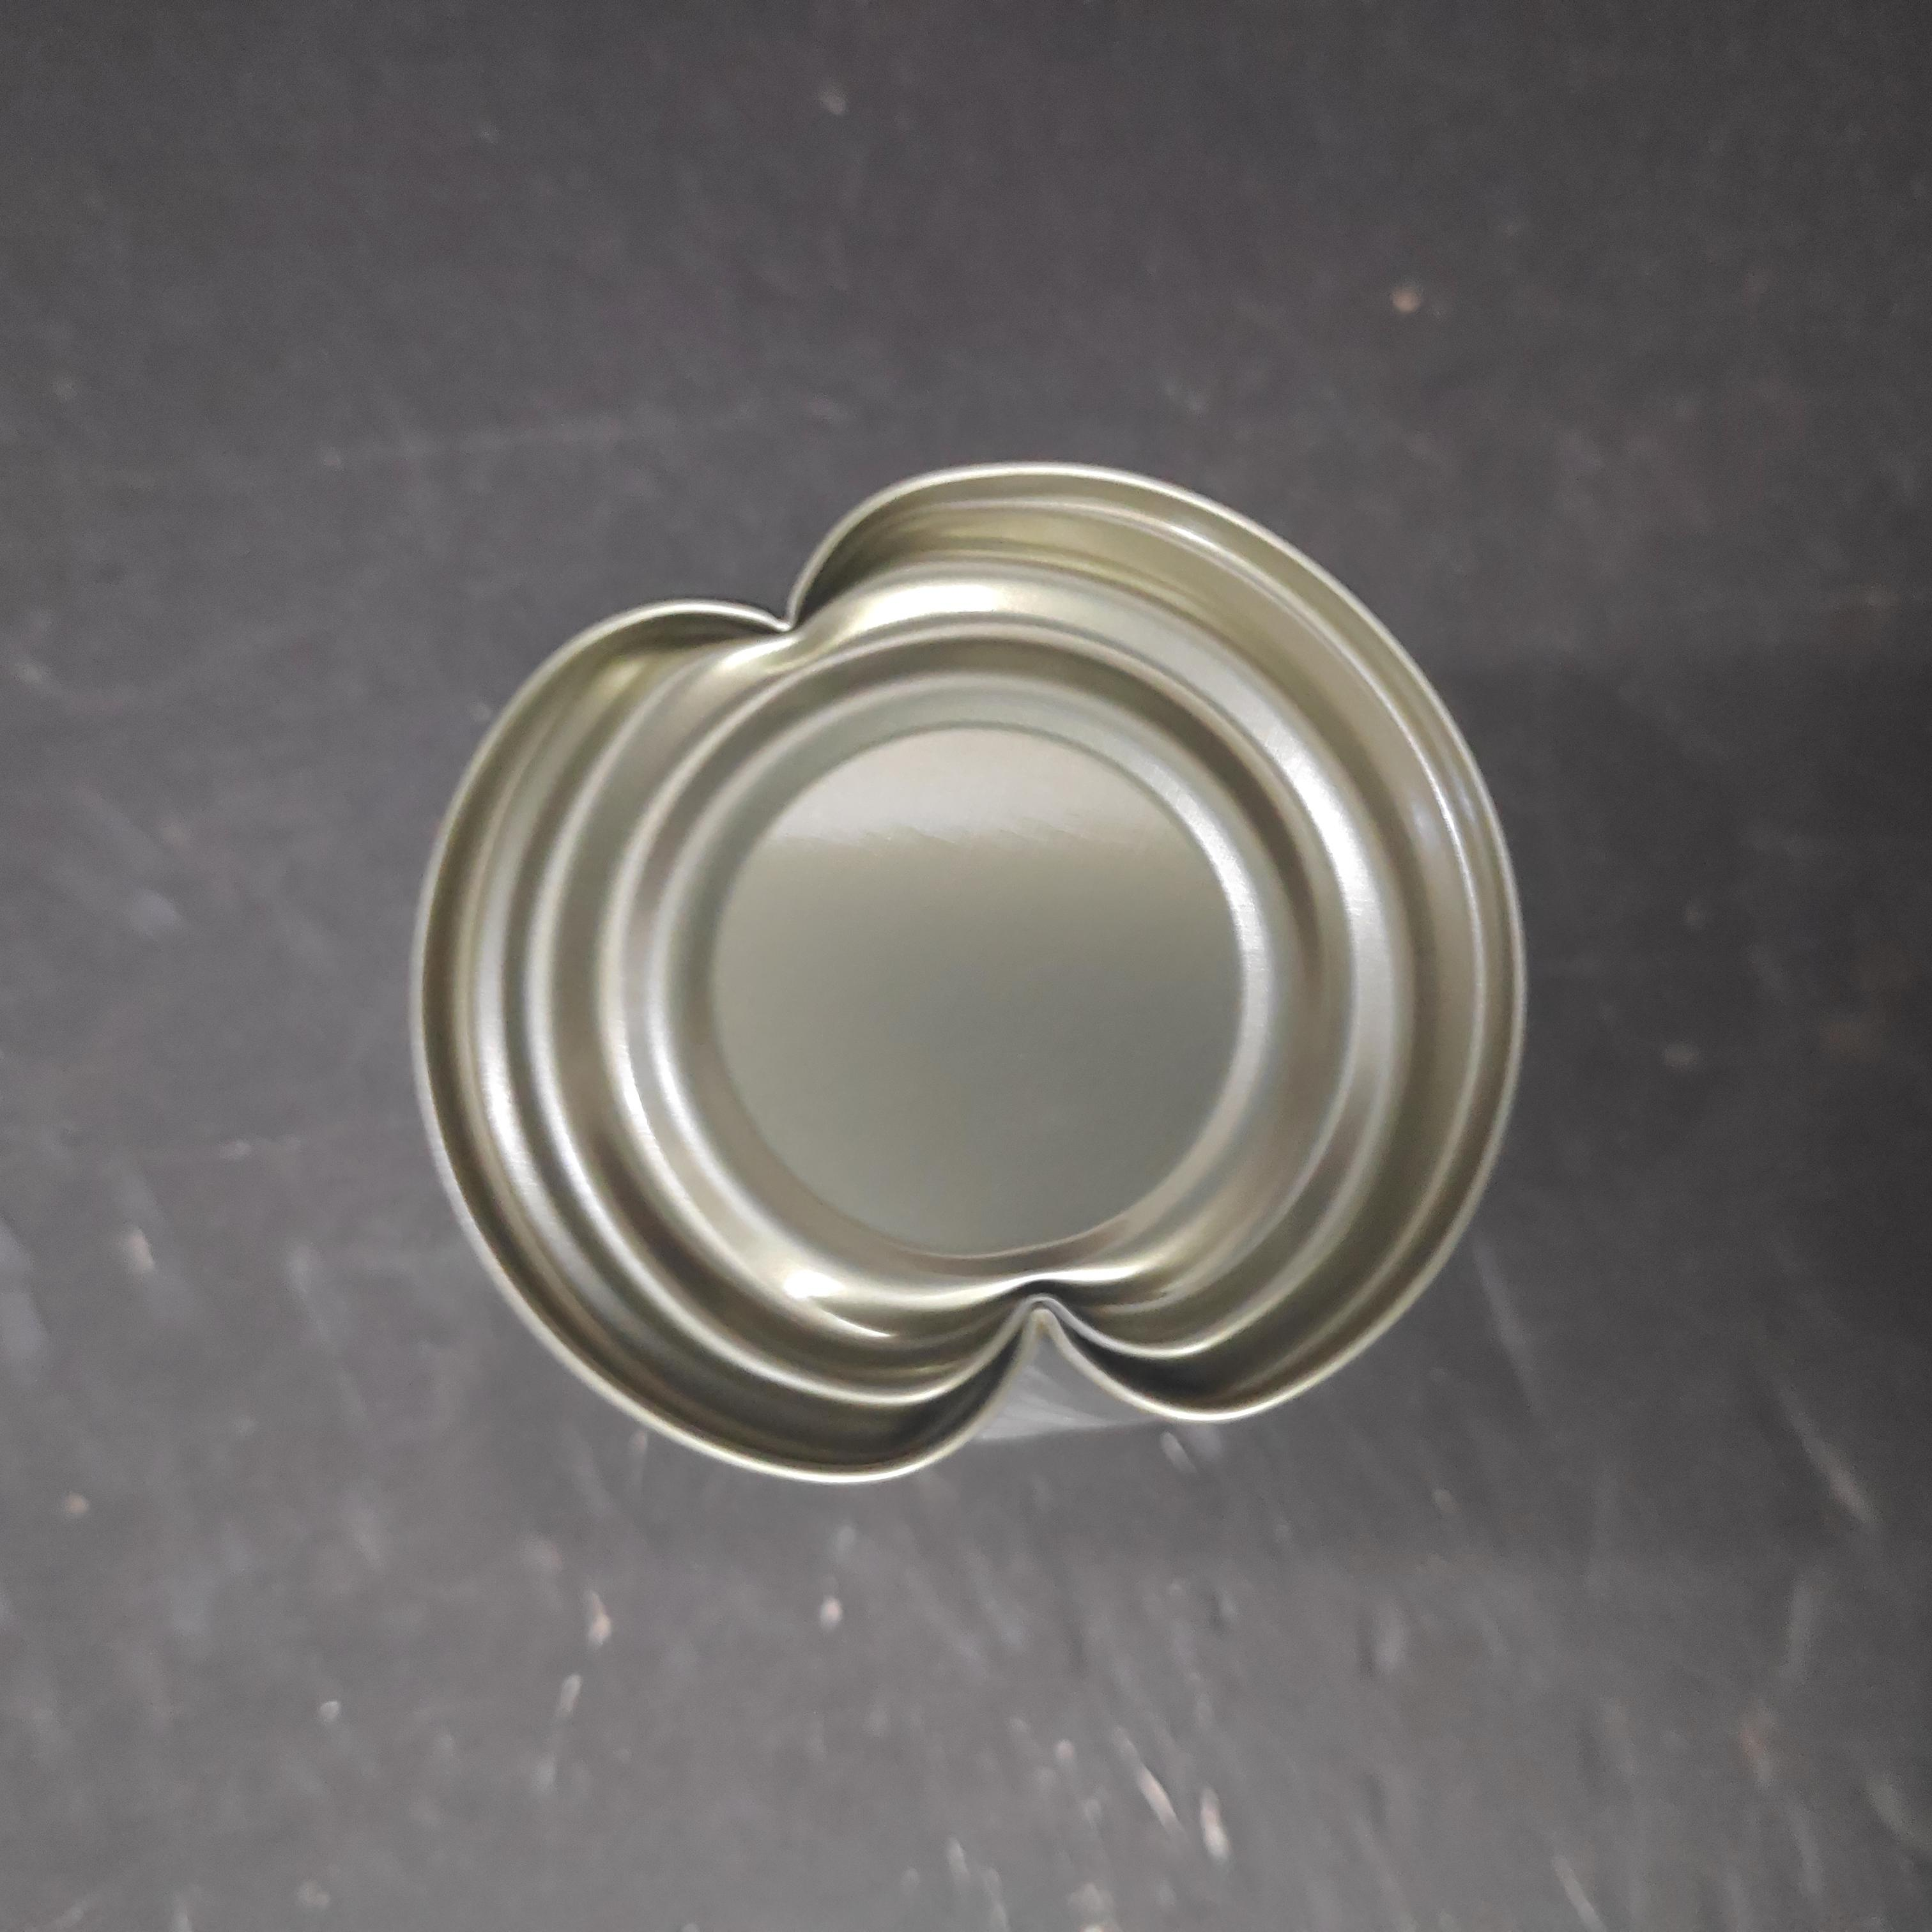Critical Defect: (395, 435, 1534, 1491)
